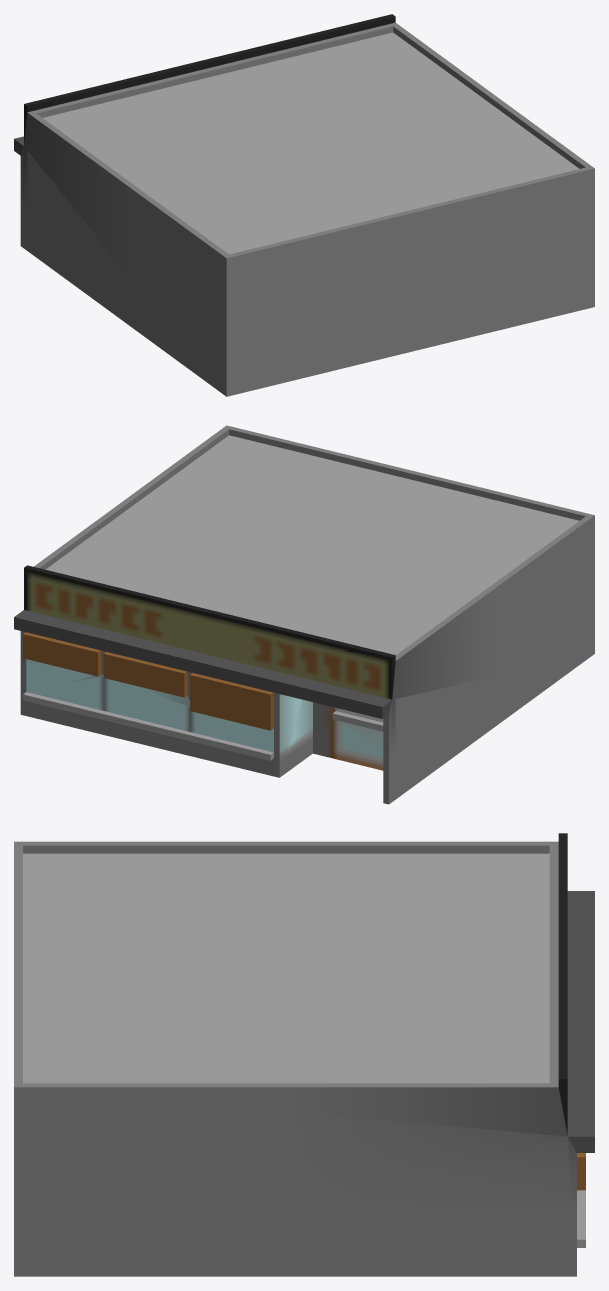
File: obj_store12.fbx
3 views of the same model, one above another, from view 1: azimuth 30°, elevation 25°; view 2: azimuth 150°, elevation 25°; view 3: azimuth 270°, elevation 25° (orthographic). The views are drawn at different scales.
Parts seen in each view (by area): view 1: obj_store12; view 2: obj_store12; view 3: obj_store12.
Part boxes in pixels (x1=…): obj_store12: x1=14, y1=14, x2=594, y2=396; obj_store12: x1=14, y1=425, x2=594, y2=804; obj_store12: x1=14, y1=833, x2=594, y2=1276.
Bounding box in the file's own units: 6.4 × 6.4 × 2.4.
1 material, 1 textured.
